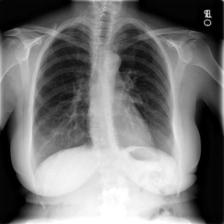normal: (30, 22, 178, 184)
